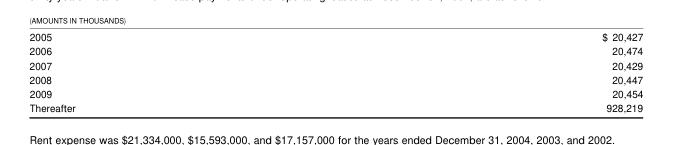table: (28, 29, 642, 114)
table column: (28, 29, 338, 114), (338, 29, 642, 114)
table row: (28, 71, 642, 86), (28, 29, 642, 43), (28, 43, 642, 57), (28, 57, 642, 71), (28, 86, 642, 100), (28, 100, 642, 114)
